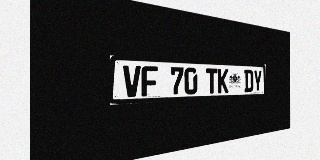0: (184, 67, 197, 95)
7: (170, 67, 184, 95)
D: (244, 70, 253, 92)
F: (141, 66, 158, 96)
K: (218, 69, 228, 93)
T: (206, 68, 217, 94)
V: (123, 65, 141, 97)
Y: (253, 70, 262, 92)
